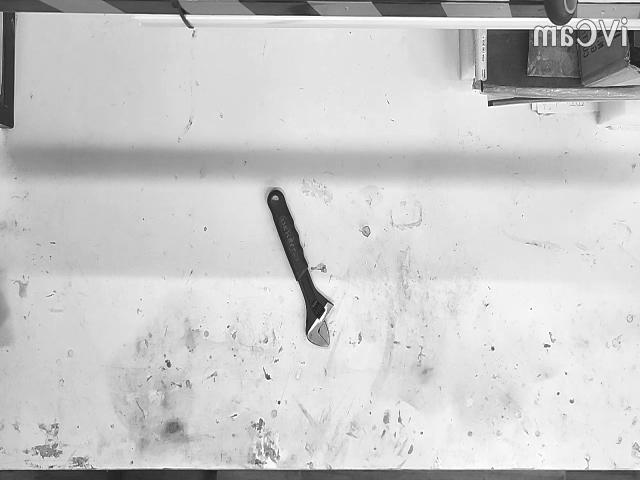Adjustable spanner: (268, 188, 334, 346)
